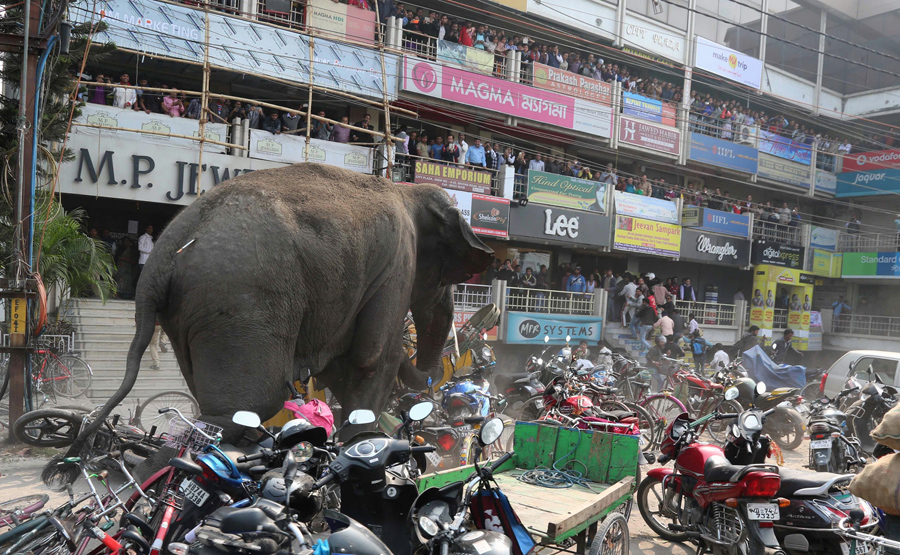Indian Elephant: (84, 154, 508, 456)
